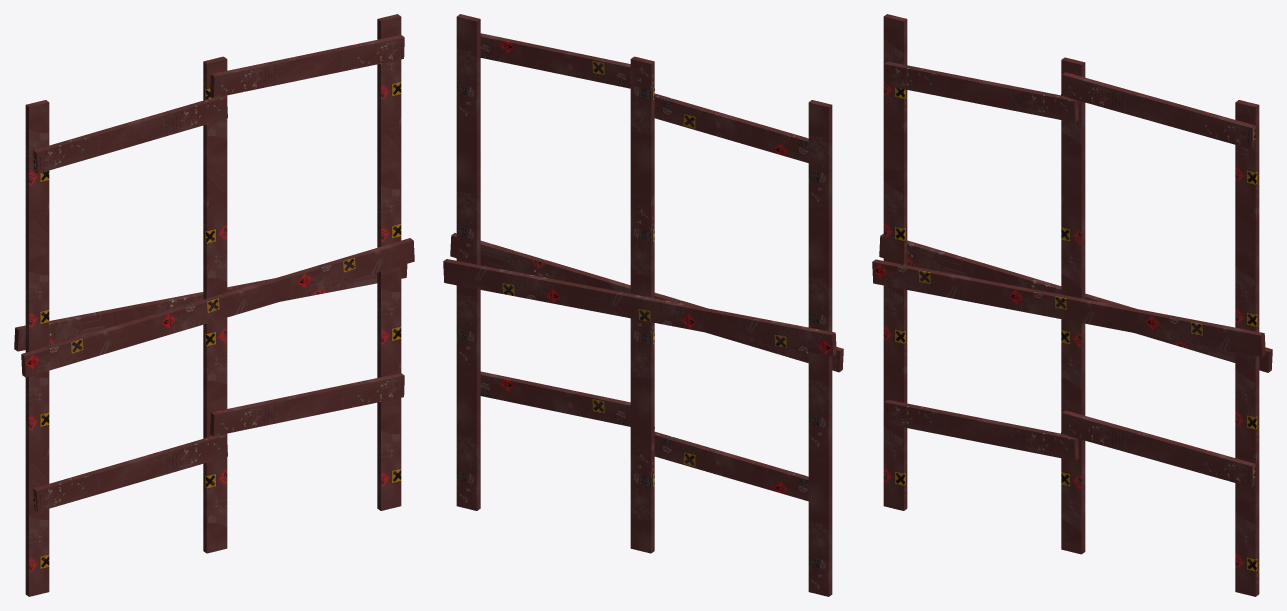
The model's file is CS_fance_inside_05.FBX.
The picture shows the model from 3 angles, left to right: view 1: azimuth 30°, elevation 25°; view 2: azimuth 150°, elevation 25°; view 3: azimuth 330°, elevation 25°; orthographic projection.
Visible parts, largest first — view 1: SM_fance_inside_05; view 2: SM_fance_inside_05; view 3: SM_fance_inside_05.
Part boxes in pixels (<box>): SM_fance_inside_05: <box>14,14,414,596</box>; SM_fance_inside_05: <box>443,14,843,596</box>; SM_fance_inside_05: <box>872,14,1272,596</box>.
Bounding box in the file's own units: 192 × 9 × 230.
